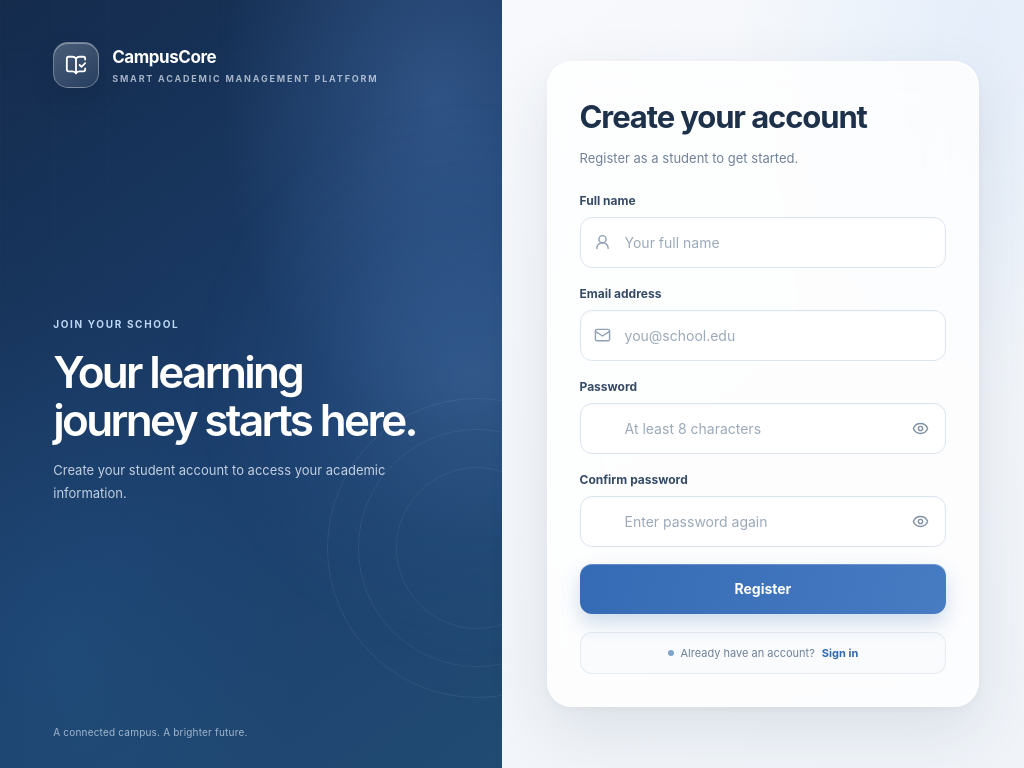
Scenario: registration flow › shows a registration-specific duplicate email error
Type "Test Student" into the field labelled "Full name". click: (763, 242)
box: x1=580 y1=217 x2=946 y2=268
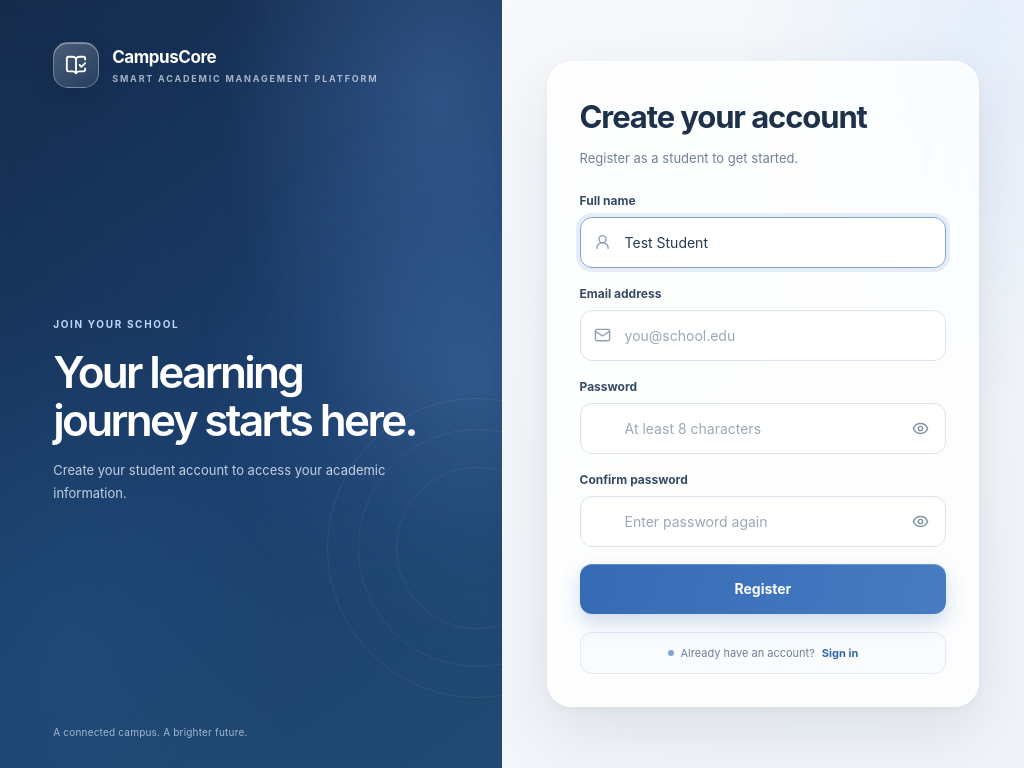
Type "new@example.com" into the field labelled "Email address". click: (763, 335)
box: x1=580 y1=310 x2=946 y2=361
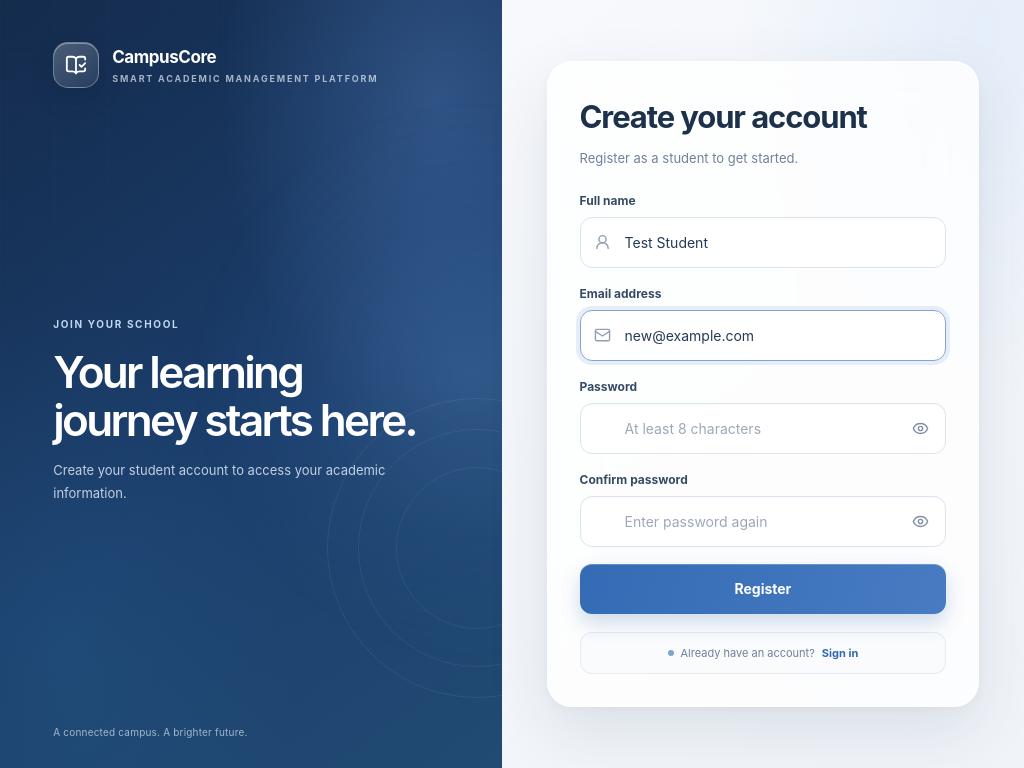
Type "Student@123" into the password field labelled "Password". click: (763, 428)
box: x1=580 y1=403 x2=946 y2=454
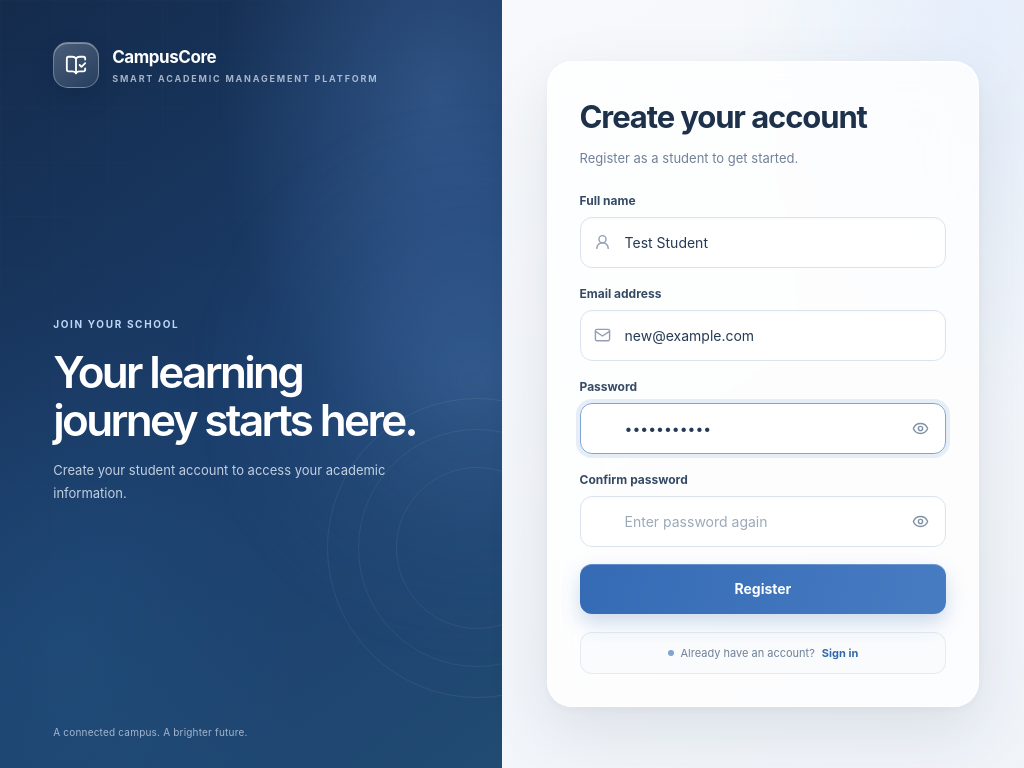
Type "Student@123" into the password field labelled "Confirm password". click: (763, 521)
box: x1=580 y1=496 x2=946 y2=547
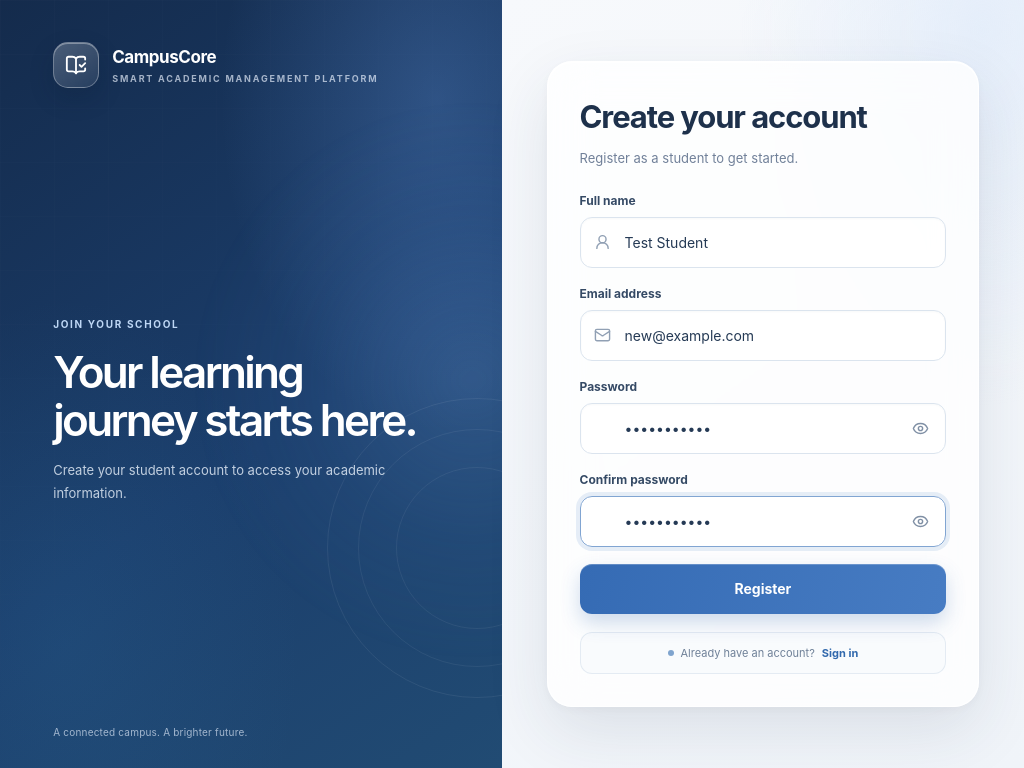
Click the button "Register". click: (763, 589)
box: x1=580 y1=564 x2=946 y2=614
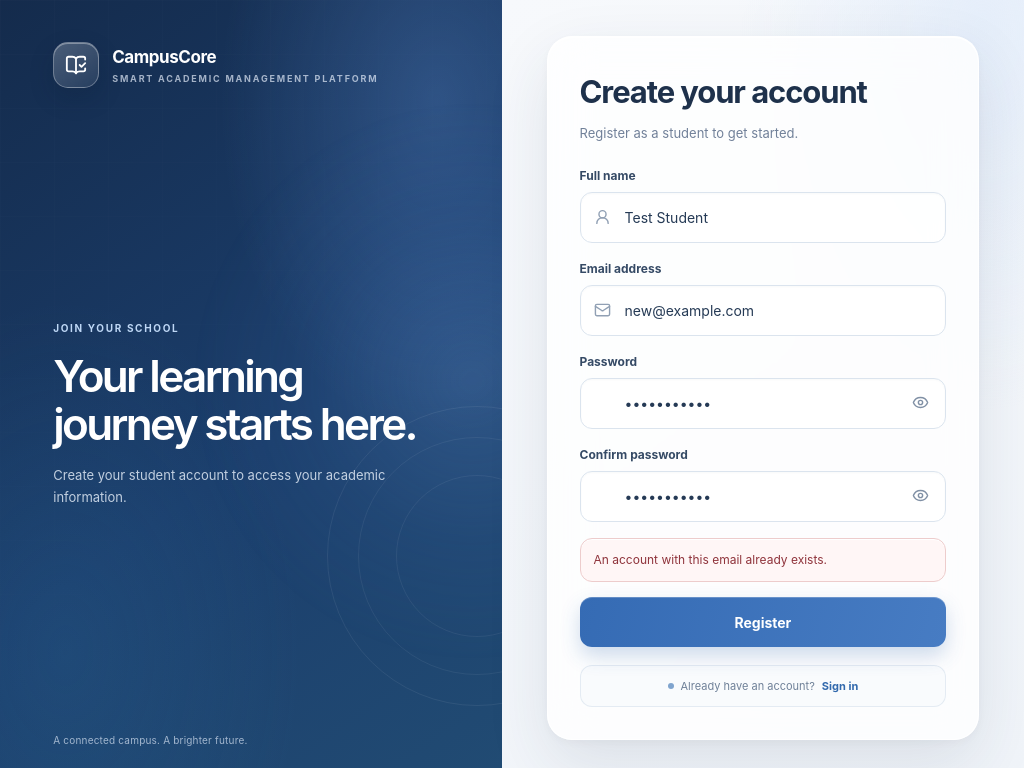
Result: the message reads "An account with this email already exists." at x1=594 y1=552 x2=827 y2=567
